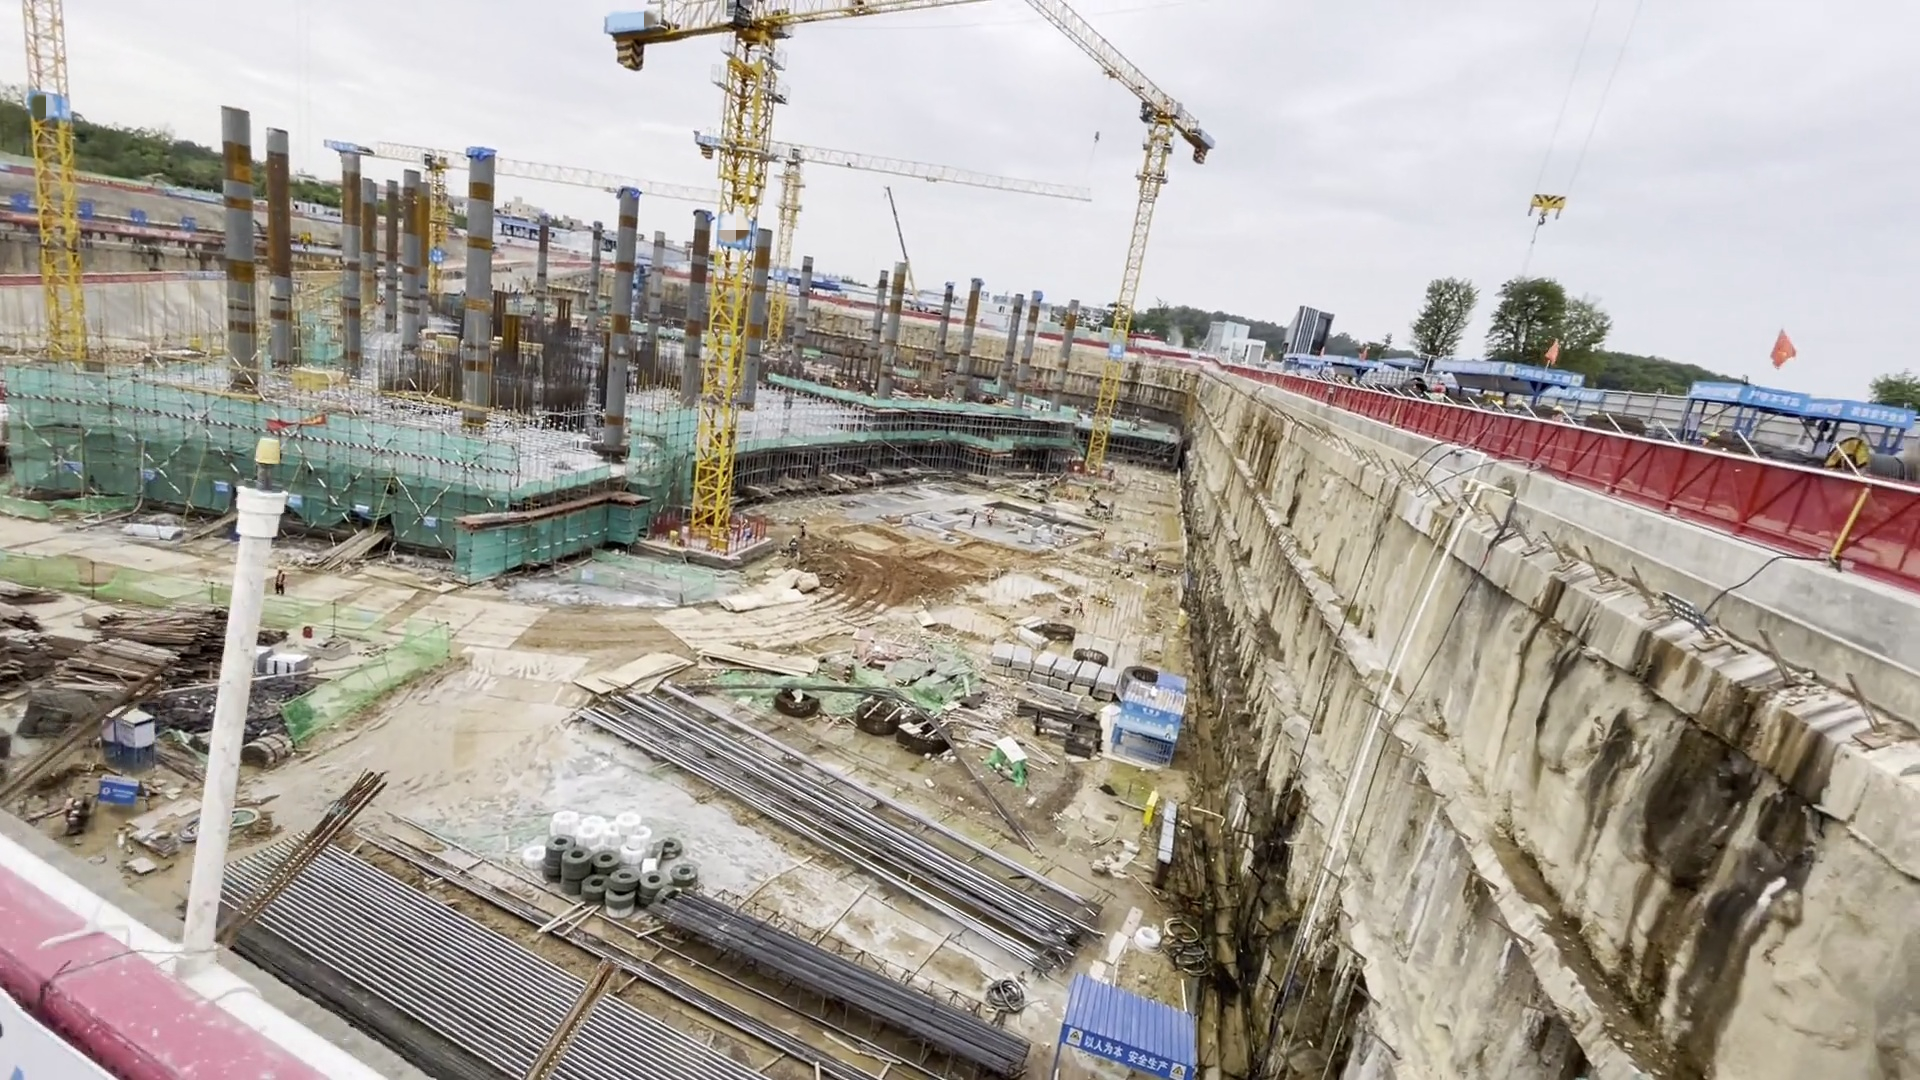brick: (993, 645, 1121, 701), (258, 641, 317, 684)
ebox: (705, 533, 727, 552)
fence: (1362, 377, 1920, 577)
helmet: (278, 566, 285, 571), (791, 534, 796, 539), (802, 519, 806, 522)
hook: (1525, 191, 1565, 232)
person: (276, 563, 291, 594), (798, 515, 813, 540), (788, 533, 798, 558)
rebar: (665, 893, 1031, 1080)
slogan: (14, 185, 201, 240), (1062, 1023, 1200, 1080), (1749, 389, 1850, 423), (1851, 405, 1914, 439)
vest: (277, 573, 287, 586), (789, 541, 798, 554), (802, 524, 807, 533)
wood: (87, 611, 226, 695)
